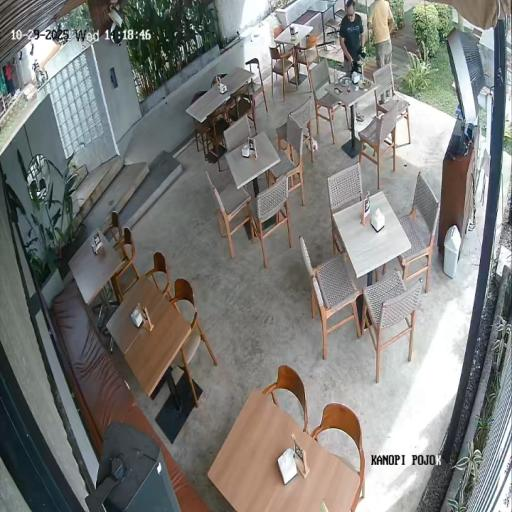Kursi: (300, 237, 361, 358), (362, 271, 422, 382), (171, 279, 217, 406), (311, 403, 364, 511), (398, 173, 440, 292), (205, 171, 251, 257), (251, 177, 292, 267), (359, 100, 398, 188), (269, 119, 305, 205), (328, 164, 362, 254), (374, 64, 411, 143), (263, 366, 307, 432), (310, 60, 342, 143), (111, 228, 140, 302), (246, 58, 268, 133), (288, 98, 313, 161), (270, 48, 293, 101), (146, 253, 172, 299), (296, 34, 319, 82), (224, 116, 251, 151), (104, 211, 123, 242), (193, 118, 209, 153)
